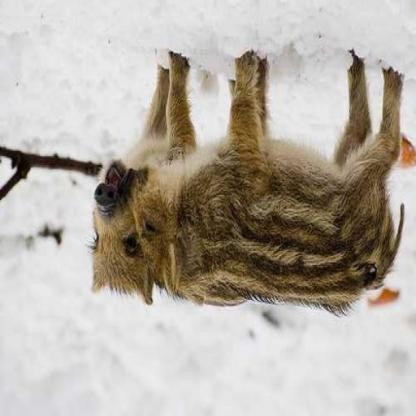boar: (54, 17, 415, 343)
